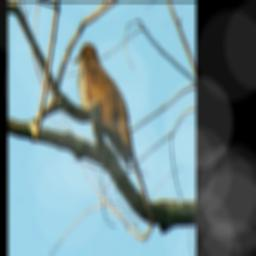Cuckoo: (73, 43, 133, 172)
